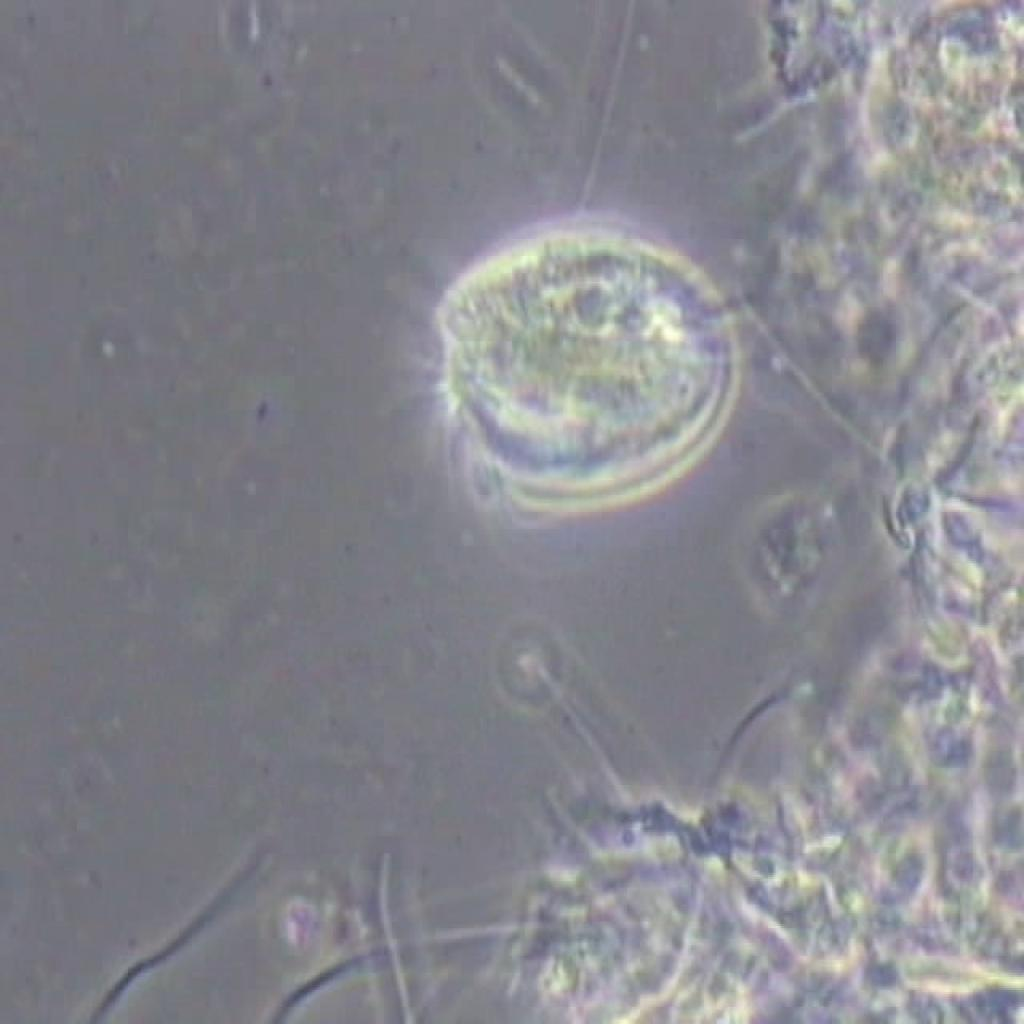Euplotes: (322, 220, 769, 525)
